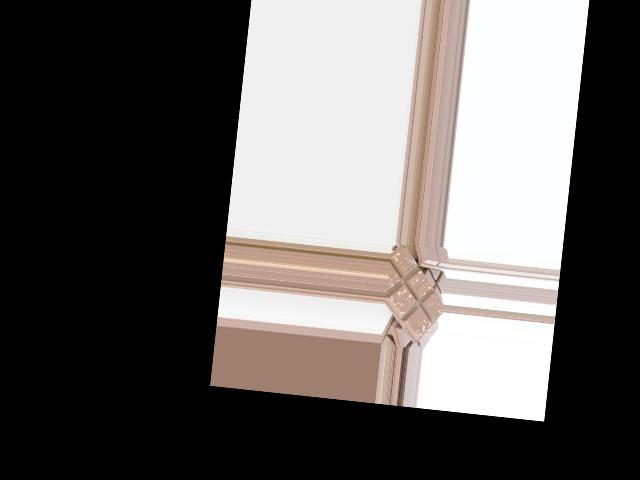chocolate: (381, 245, 448, 339)
